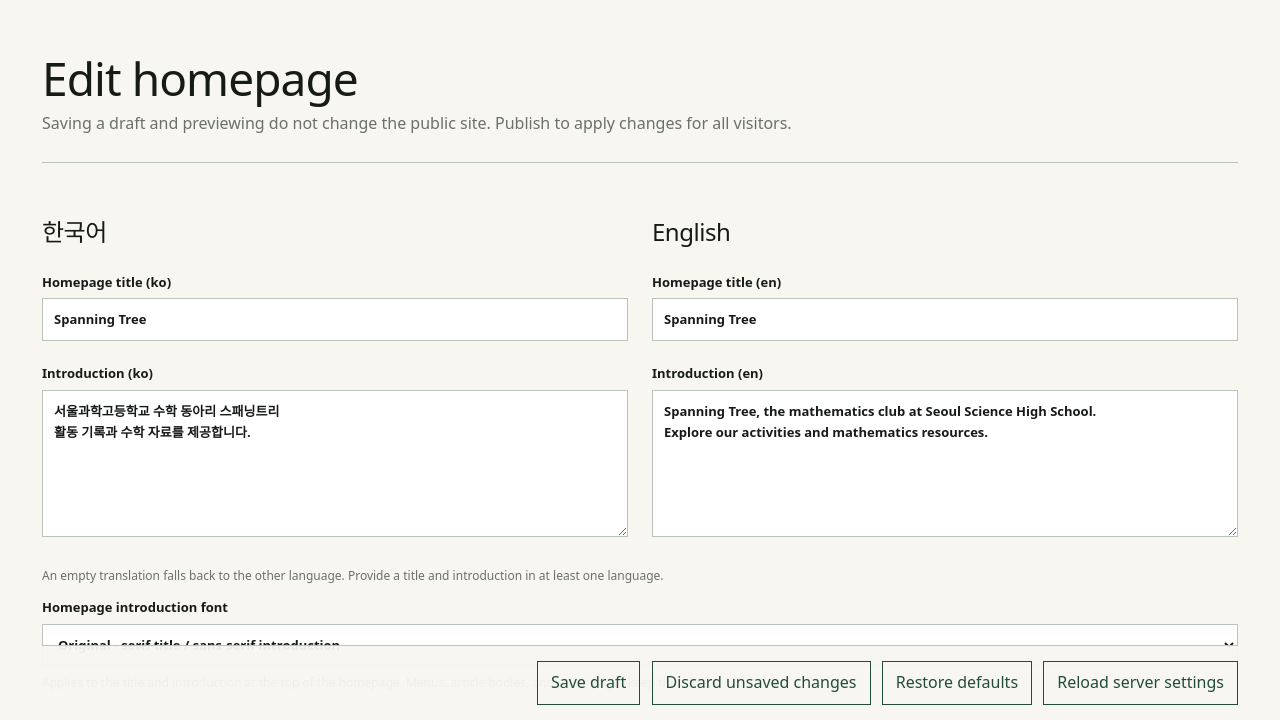
Test: keeps input and reports server permission failures in English
This screenshot has width=1280, height=720.
Step 1. Replace the text in the field labelled "Homepage title (en)" with "Keep my input" → (945, 320), box left=652, top=298, right=1238, bottom=341
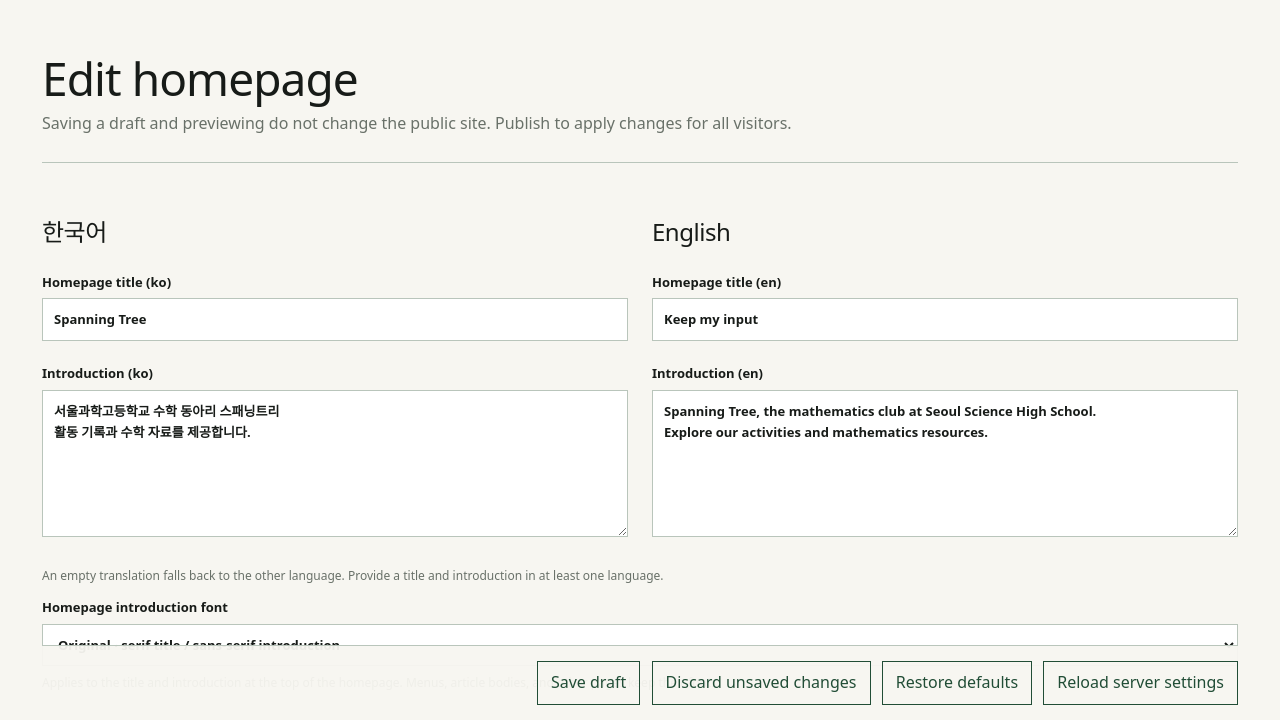
Step 2. Click the button "Save draft" → click(589, 683), box left=537, top=661, right=640, bottom=705
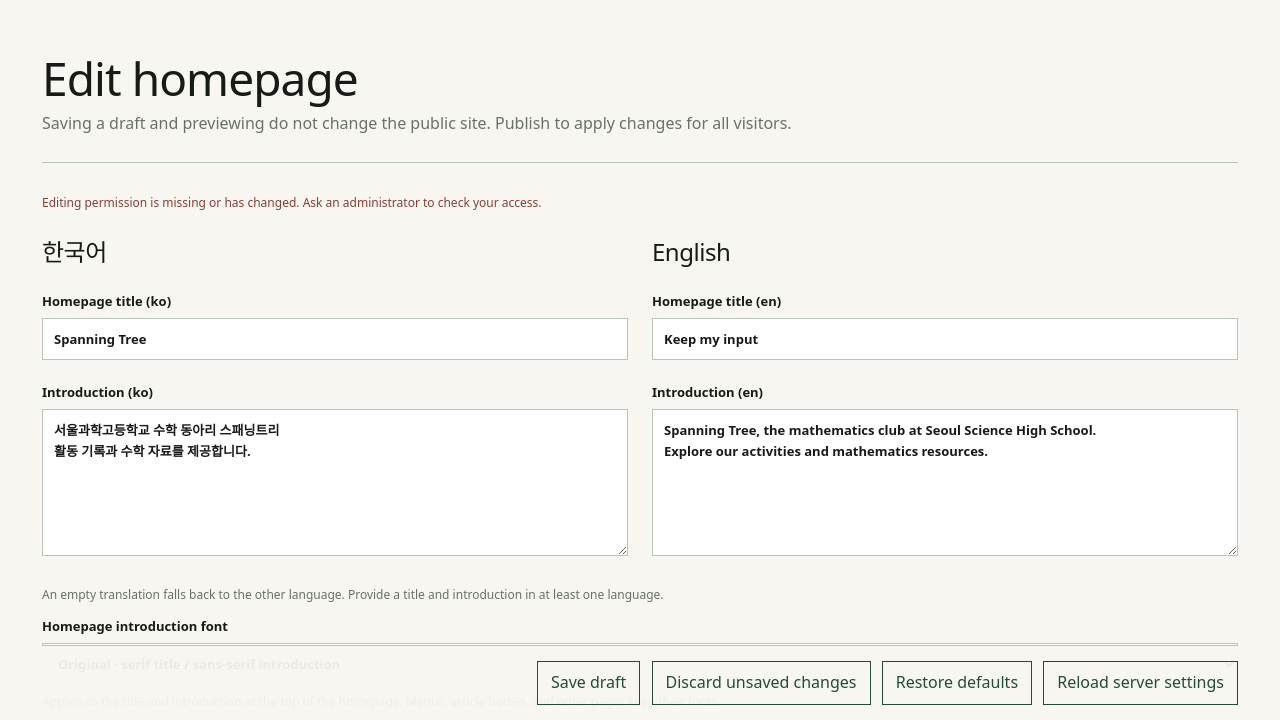
Now the message shows "Editing permission", box left=42, top=194, right=542, bottom=212
